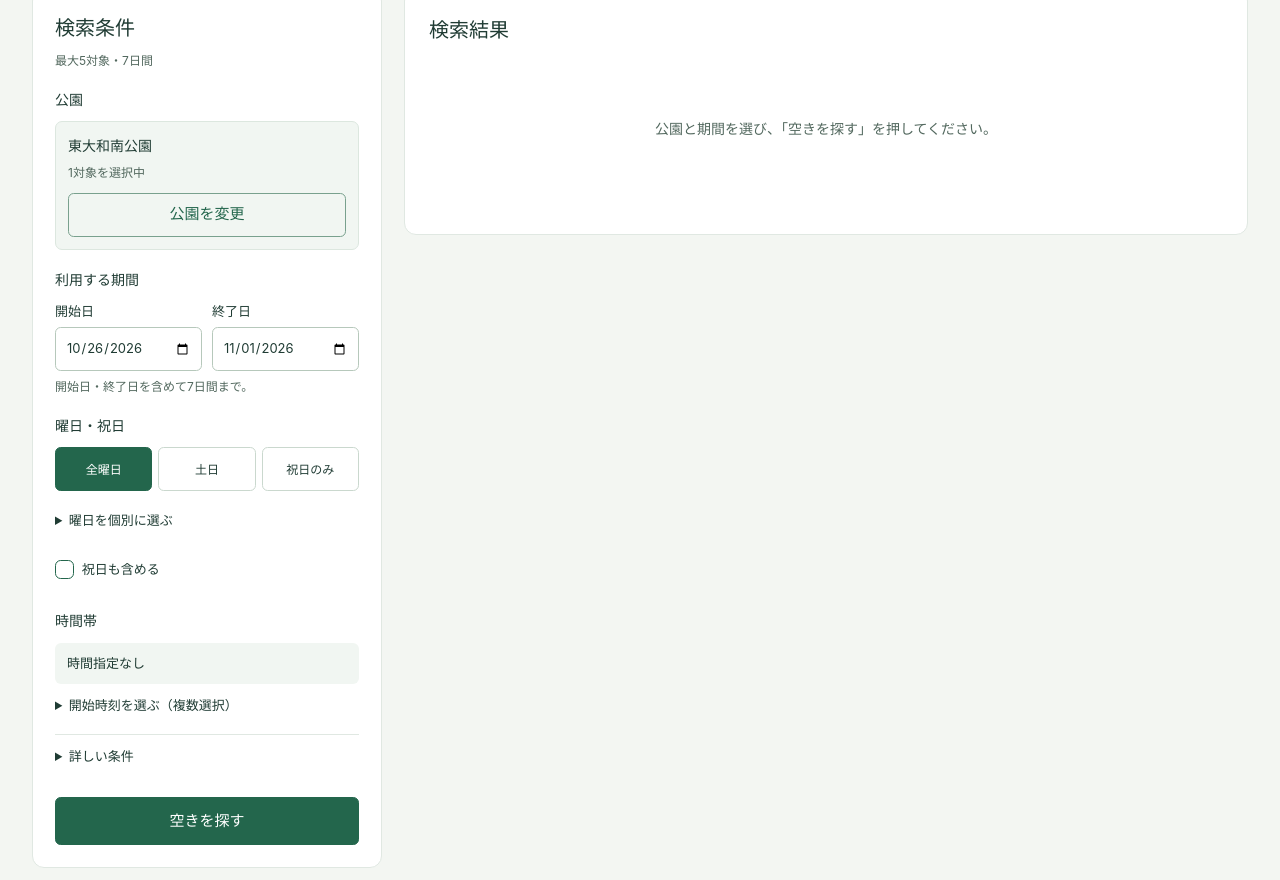
API search and asynchronous updates › retries job status without resubmitting the update
The width and height of the screenshot is (1280, 880).
(page scrolled)
Submit the form, box [55,88,359,845]
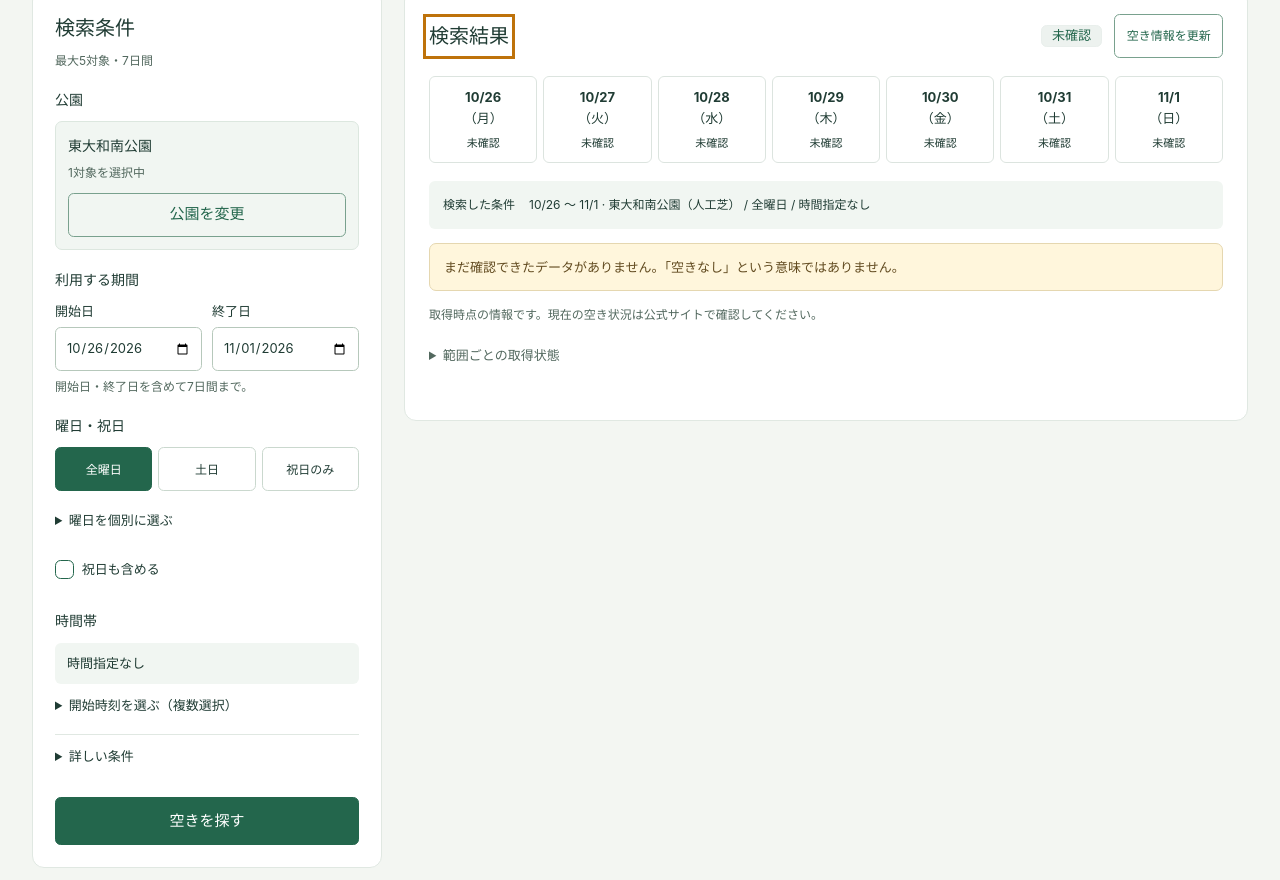
Click the button "空き情報を更新".
click(1169, 36)  # box [1114,14,1223,58]
Wait 3000 ms
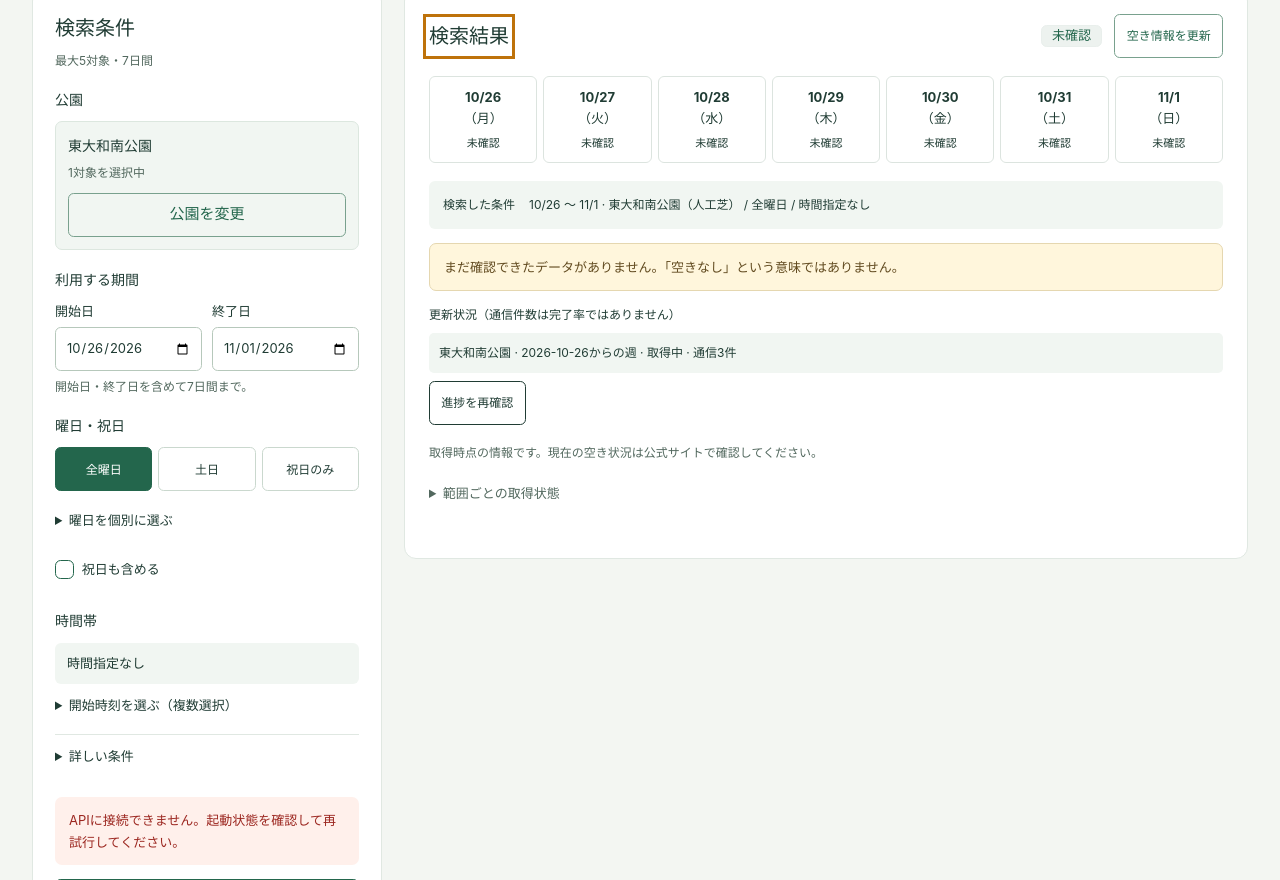
Click the button "進捗を再確認".
click(477, 402)  # box [429,380,526,424]
Wait 3000 ms
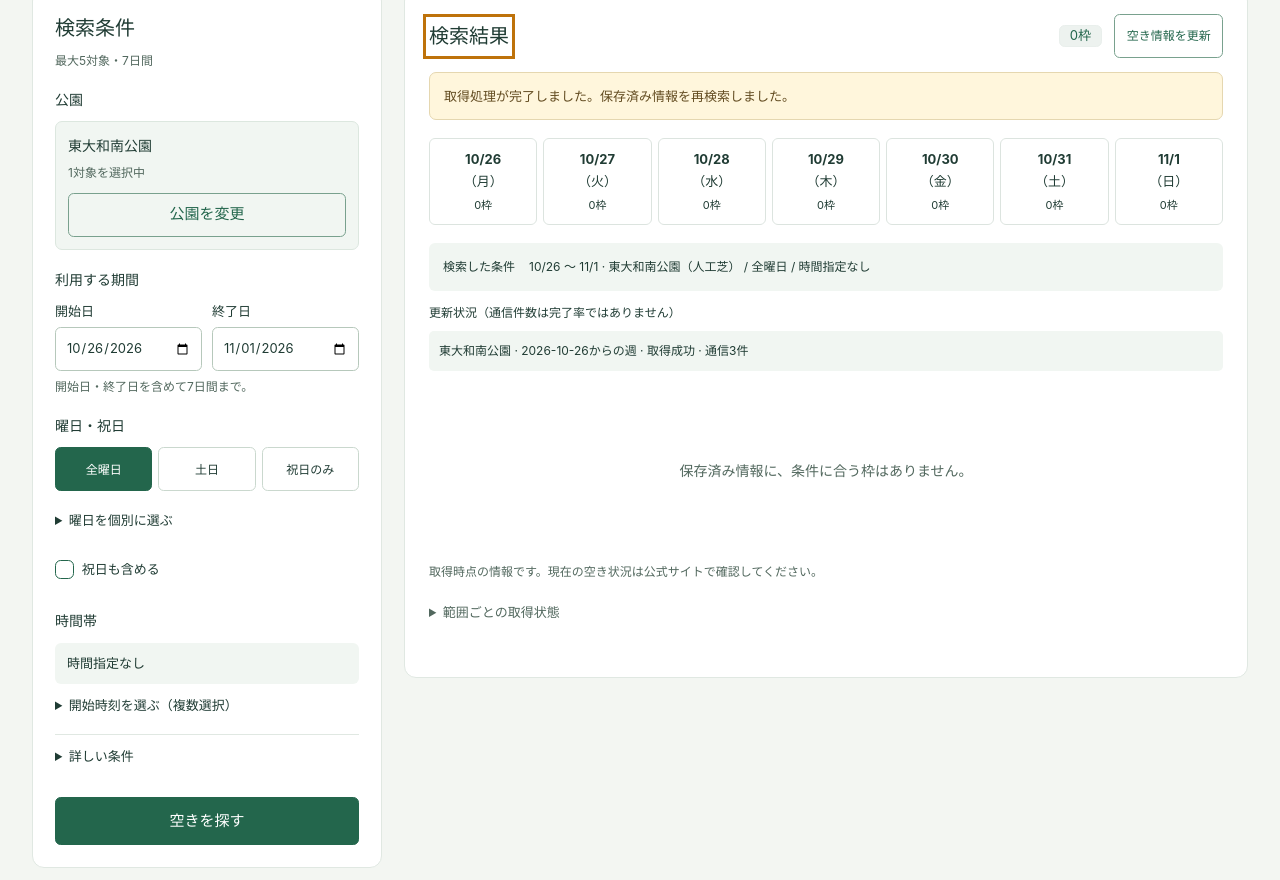
Check: the text "取得処理が完了" is shown, box [444,88,795,104]
